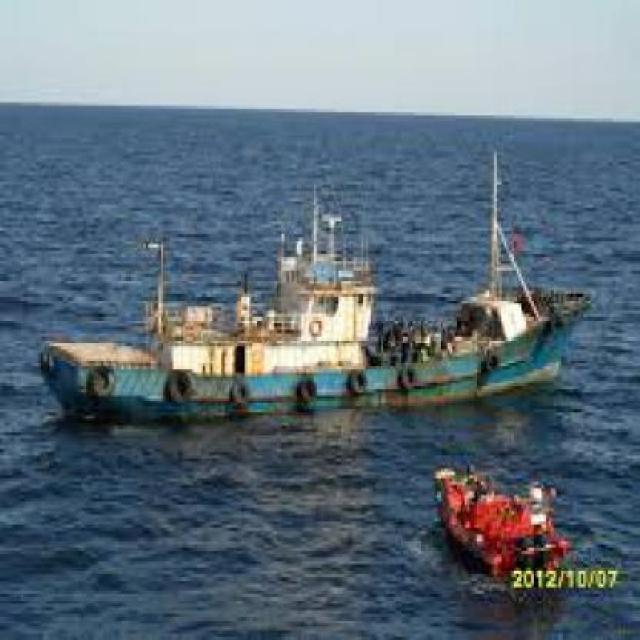fish-b: (33, 144, 604, 444)
